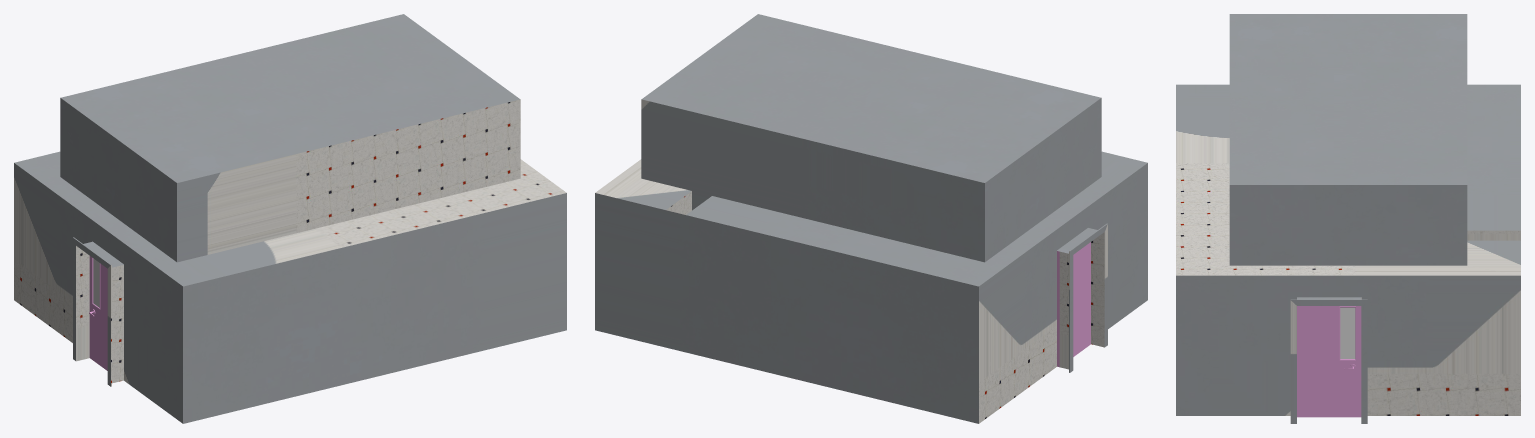
The model's file is GR_Room.fbx.
3 renders of one model, left to right at view 1: azimuth 30°, elevation 25°; view 2: azimuth 150°, elevation 25°; view 3: azimuth 270°, elevation 25°, orthographic.
Parts seen in each view (by area): view 1: GR_Ceiling, GR_Wall4, GR_Wall2, GR_Door_L; view 2: GR_Ceiling, GR_Wall3, GR_Wall2, GR_Door_L; view 3: GR_Ceiling, GR_Wall1, GR_Door_R., GR_Door_R_Glass.
Part boxes in pixels (bbox=[...]): GR_Ceiling: bbox=[14, 14, 566, 286]; GR_Wall4: bbox=[183, 193, 566, 423]; GR_Wall2: bbox=[14, 163, 182, 423]; GR_Door_L: bbox=[89, 256, 107, 370]; GR_Ceiling: bbox=[595, 14, 1147, 286]; GR_Wall3: bbox=[595, 193, 978, 423]; GR_Wall2: bbox=[979, 163, 1147, 423]; GR_Door_L: bbox=[1057, 242, 1090, 367]; GR_Ceiling: bbox=[1176, 14, 1520, 275]; GR_Wall1: bbox=[1176, 275, 1520, 423]; GR_Door_R.: bbox=[1297, 306, 1361, 417]; GR_Door_R_Glass: bbox=[1340, 307, 1355, 358].
Size of the model in its own units: 824 by 410 by 580.
